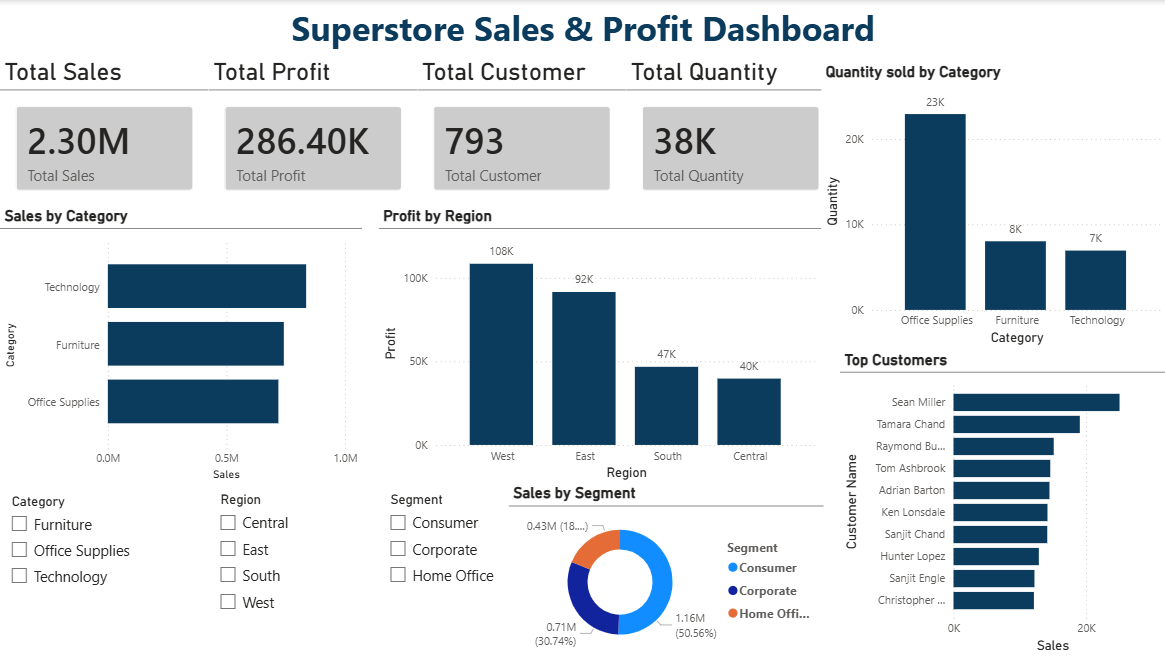

The dashboard page shown, as its layout file describes it:
{"tool":"powerbi","page":{"name":"Page 1","canvas":[1280,720],"ordinal":0},"visuals":[{"type":"cardVisual","title":"Total Profit","fields":{"Data":["Sample - Superstore piyushclean.Total Profit"]},"box":[229.2,63.1,229.2,163.3],"z":0},{"type":"cardVisual","title":"Total Customer","fields":{"Data":["Sample - Superstore piyushclean.Total Customer"]},"box":[458.3,63.1,229.2,163.3],"z":1000},{"type":"cardVisual","title":"Total Quantity","fields":{"Data":["Sample - Superstore piyushclean.Total Quantity"]},"box":[687.5,63.1,229.2,163.3],"z":2000},{"type":"clusteredBarChart","title":"Sales by Category","fields":{"Category":["Sample - Superstore piyushclean.Category"],"Y":["Sum(Sample - Superstore piyushclean.Sales)"]},"box":[0,226.4,397.9,304.6],"z":3000},{"type":"clusteredColumnChart","title":"Profit by Region","fields":{"Category":["Sample - Superstore piyushclean.Region"],"Y":["Sum(Sample - Superstore piyushclean.Profit)"]},"box":[415.8,226.4,485.8,304.6],"z":4000},{"type":"clusteredBarChart","title":"Top Customers","fields":{"Category":["Sample - Superstore piyushclean.Customer Name"],"Y":["Sum(Sample - Superstore piyushclean.Sales)"]},"box":[922.1,384.2,358.1,336.2],"z":5000},{"type":"slicer","fields":{"Values":["Sample - Superstore piyushclean.Region"]},"box":[229.2,535.2,252.5,185.2],"z":6000},{"type":"slicer","fields":{"Values":["Sample - Superstore piyushclean.Category"]},"box":[0,536.5,229.2,183.9],"z":7000},{"type":"slicer","fields":{"Values":["Sample - Superstore piyushclean.Segment"]},"box":[415.8,535.2,252.5,185.2],"z":8000},{"type":"donutChart","title":"Sales by Segment","fields":{"Category":["Sample - Superstore piyushclean.Segment"],"Y":["Sum(Sample - Superstore piyushclean.Sales)"]},"box":[558.5,531,345.8,189.4],"z":9000},{"type":"clusteredColumnChart","title":"Quantity sold by Category","fields":{"Category":["Sample - Superstore piyushclean.Category"],"Y":["Sum(Sample - Superstore piyushclean.Quantity)"]},"box":[901.5,68.6,378.7,315.6],"z":10000},{"type":"cardVisual","title":"Total Sales","fields":{"Data":["Sample - Superstore piyushclean.Total Sales"]},"box":[0,63.1,229.2,163.3],"z":11000},{"type":"textbox","box":[0,0,1280.3,63.1],"z":12000}]}

Visuals, with their boxes in screenshot pixels (x1, y1, x2, y2), scaled from the page's 1280x720 canvas onto the 1165x656 screenshot:
"Total Profit" cardVisual: rect(209, 57, 417, 206)
"Total Customer" cardVisual: rect(417, 57, 626, 206)
"Total Quantity" cardVisual: rect(626, 57, 834, 206)
"Sales by Category" clusteredBarChart: rect(0, 206, 362, 484)
"Profit by Region" clusteredColumnChart: rect(378, 206, 821, 484)
"Top Customers" clusteredBarChart: rect(839, 350, 1164, 655)
slicer - Sample - Superstore piyushclean.Region: rect(209, 488, 438, 655)
slicer - Sample - Superstore piyushclean.Category: rect(0, 489, 209, 655)
slicer - Sample - Superstore piyushclean.Segment: rect(378, 488, 608, 655)
"Sales by Segment" donutChart: rect(508, 484, 823, 655)
"Quantity sold by Category" clusteredColumnChart: rect(821, 63, 1164, 350)
"Total Sales" cardVisual: rect(0, 57, 209, 206)
textbox: rect(0, 0, 1164, 57)
